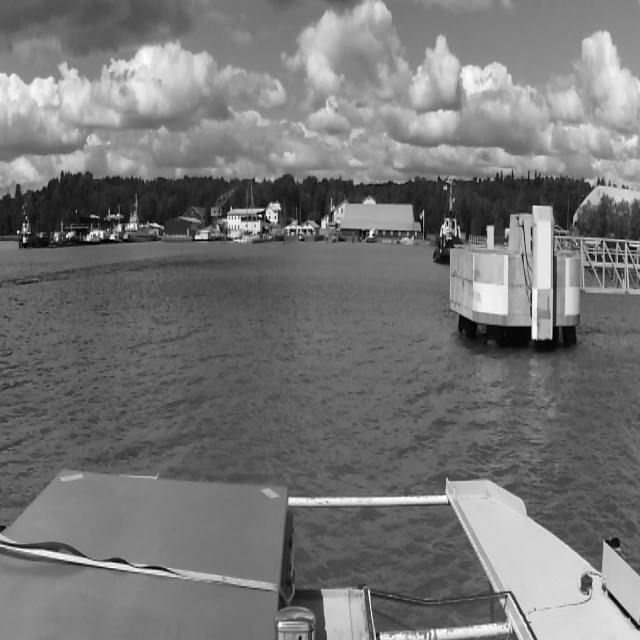ship: (430, 172, 473, 262), (234, 187, 254, 241), (19, 223, 49, 246), (82, 227, 102, 247), (50, 225, 66, 248), (64, 225, 80, 242), (368, 229, 377, 243)
